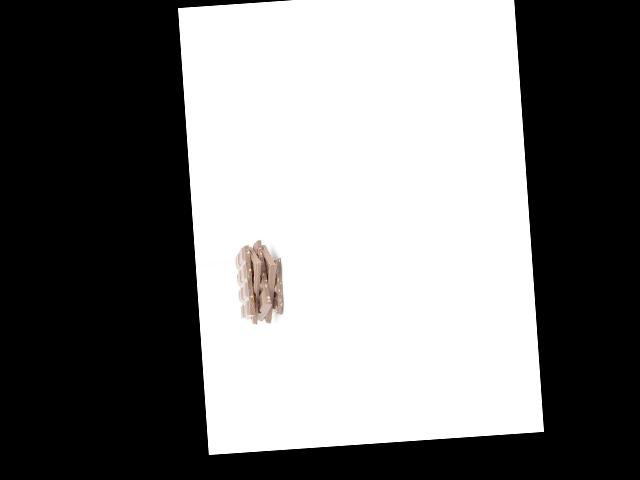chocolate: (253, 243, 289, 322)
